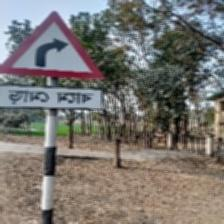Left-Turn: (0, 9, 106, 114)
